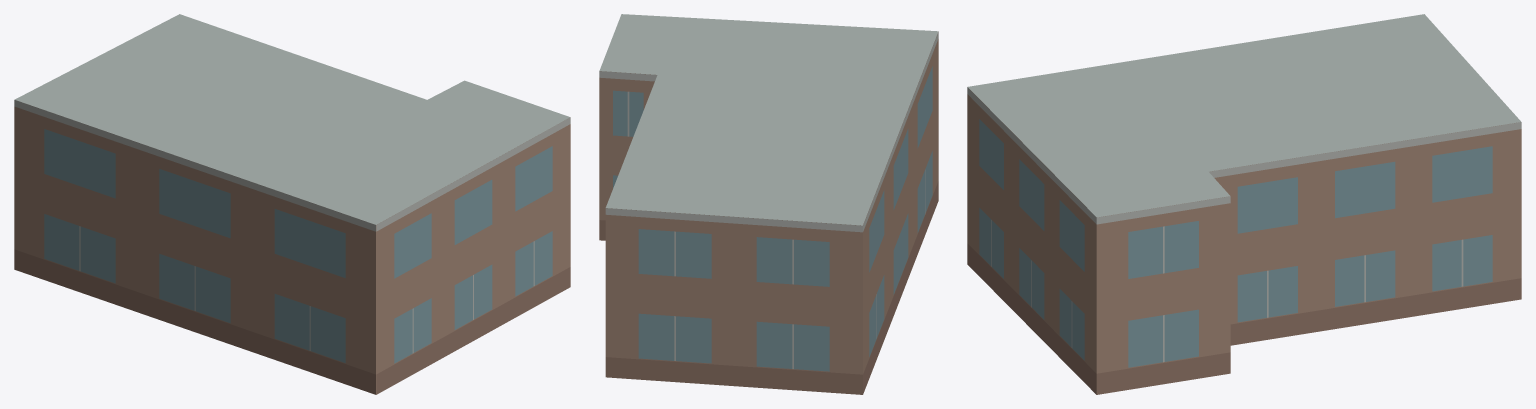
Rendered from survey-upis-32698432.glb.
The picture shows the model from 3 angles, left to right: view 1: azimuth 30°, elevation 25°; view 2: azimuth 150°, elevation 25°; view 3: azimuth 270°, elevation 25°; orthographic projection. The views are drawn at different scales.
Visible parts, largest first — view 1: survey-upis-32698432.tmp; view 2: survey-upis-32698432.tmp; view 3: survey-upis-32698432.tmp.
Boxes of the visible parts, left/top/right/bottom form: survey-upis-32698432.tmp: left=14, top=14, right=570, bottom=394; survey-upis-32698432.tmp: left=599, top=14, right=938, bottom=394; survey-upis-32698432.tmp: left=967, top=14, right=1521, bottom=394.
Size of the model in its own units: 15.01 by 6.1 by 17.28.
